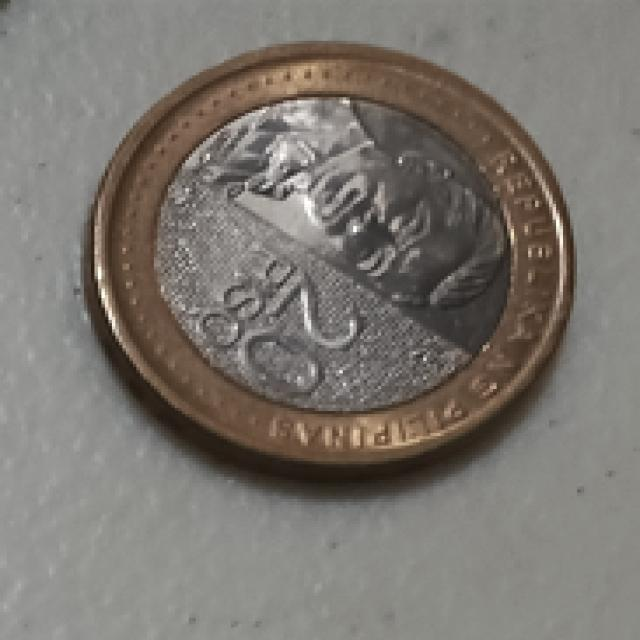20_peso: (87, 44, 567, 471)
